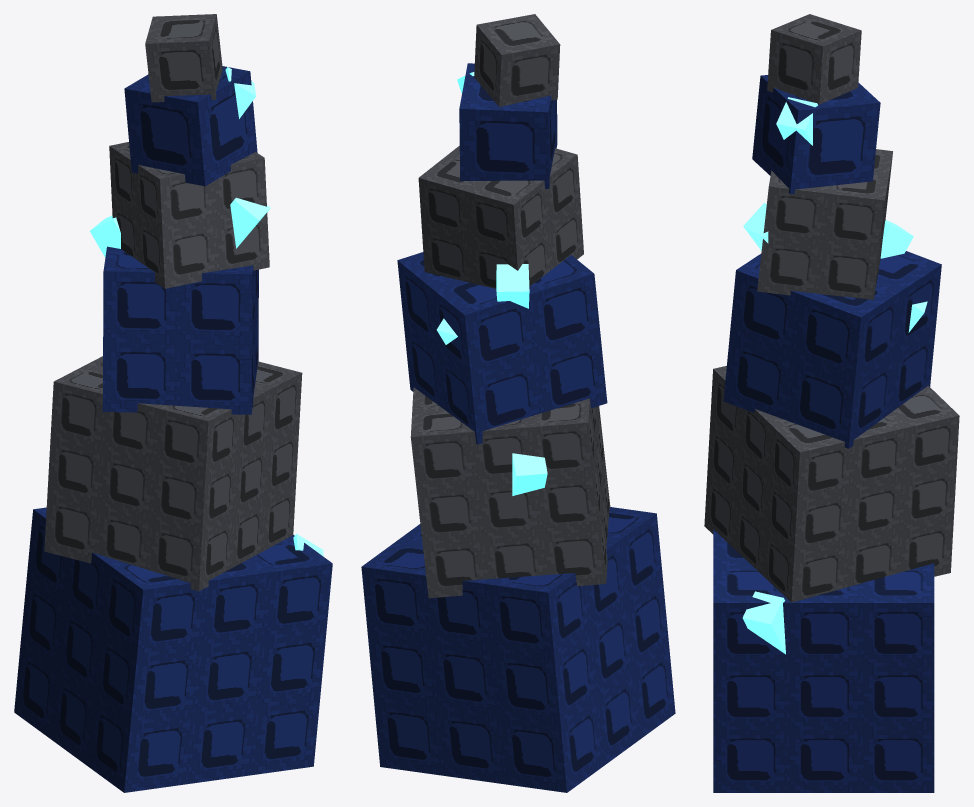
File: TrenchSpire.glb
The picture shows the model from 3 angles, left to right: view 1: azimuth 30°, elevation 25°; view 2: azimuth 150°, elevation 25°; view 3: azimuth 270°, elevation 25°; orthographic projection.
Parts seen in each view (by area): view 1: TrenchSpire, TrenchSpire_Glow; view 2: TrenchSpire, TrenchSpire_Glow; view 3: TrenchSpire, TrenchSpire_Glow.
Part boxes in pixels (x1,y1,x2,y2): TrenchSpire: [14, 14, 332, 792]; TrenchSpire_Glow: [90, 67, 323, 556]; TrenchSpire: [361, 14, 675, 792]; TrenchSpire_Glow: [436, 72, 547, 495]; TrenchSpire: [704, 14, 959, 792]; TrenchSpire_Glow: [742, 97, 927, 654].
Bounding box in the file's own units: 4.15 × 12.32 × 3.93.
2 materials, 1 textured.
